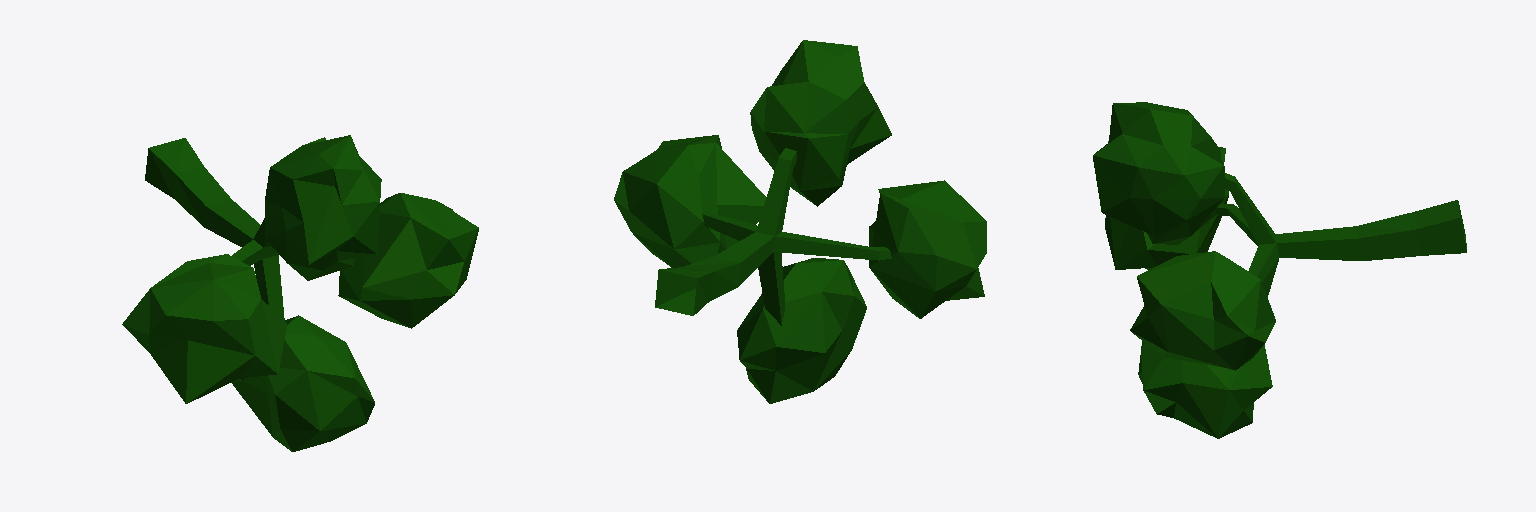
File: Lowpoly_tree_sample.obj
3 renders of one model, left to right at view 1: azimuth 30°, elevation 25°; view 2: azimuth 150°, elevation 25°; view 3: azimuth 270°, elevation 25°, orthographic.
Parts seen in each view (by area): view 1: Tree_2; view 2: Tree_2; view 3: Tree_2.
Boxes of the visible parts, x1=… form: Tree_2: x1=122, y1=135, x2=478, y2=451; Tree_2: x1=614, y1=40, x2=986, y2=403; Tree_2: x1=1093, y1=102, x2=1466, y2=438.
Size of the model in its own units: 35.97 by 32.33 by 34.06.